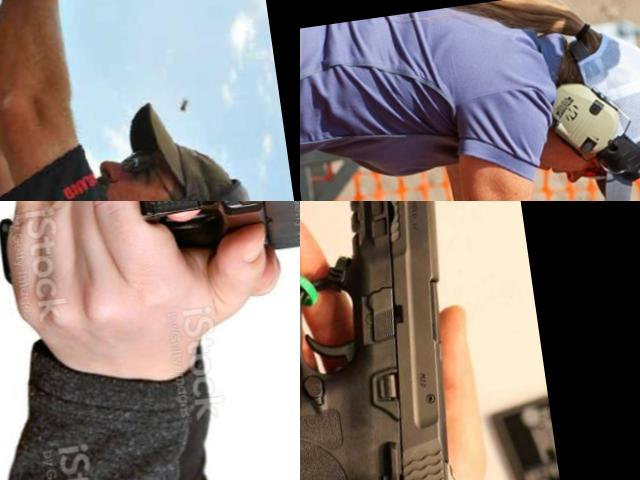handgun: (300, 201, 498, 480), (0, 201, 300, 294), (0, 0, 105, 43)
